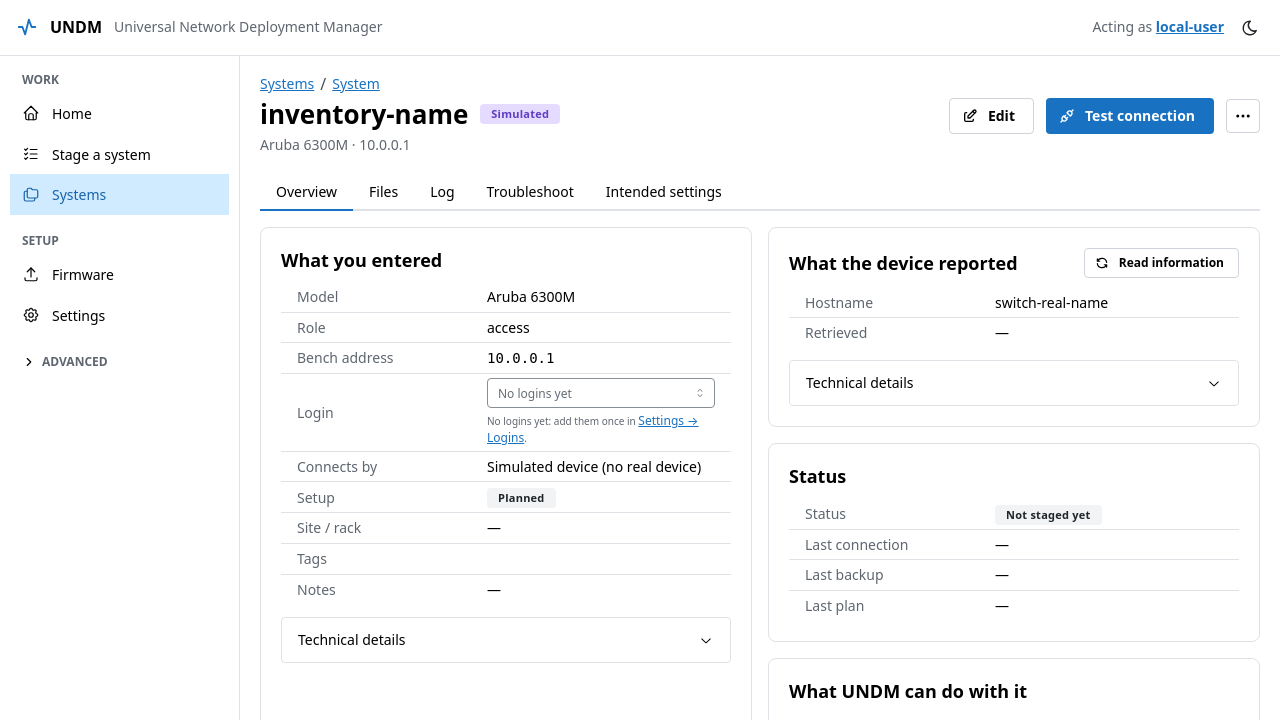
Scenario: intent editor hostname safety › defaults to the observed hostname and warns before renaming
Click the tab "Intended settings" at (664, 193), box x1=590 y1=175 x2=738 y2=211
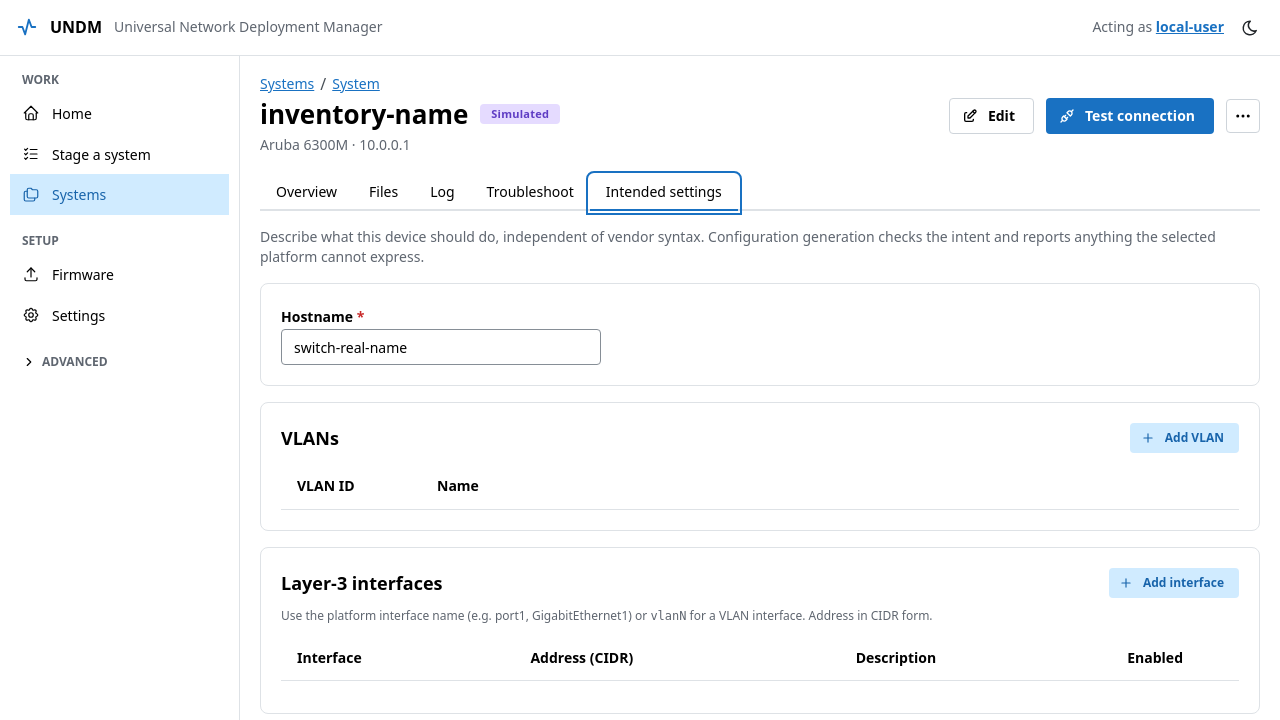
Check: the text "This renames the device" is not shown
Check: the field labelled "Hostname *" holds "switch-real-name"
Replace the text in the field labelled "Hostname *" with "other" at (441, 347), box x1=281 y1=329 x2=601 y2=365
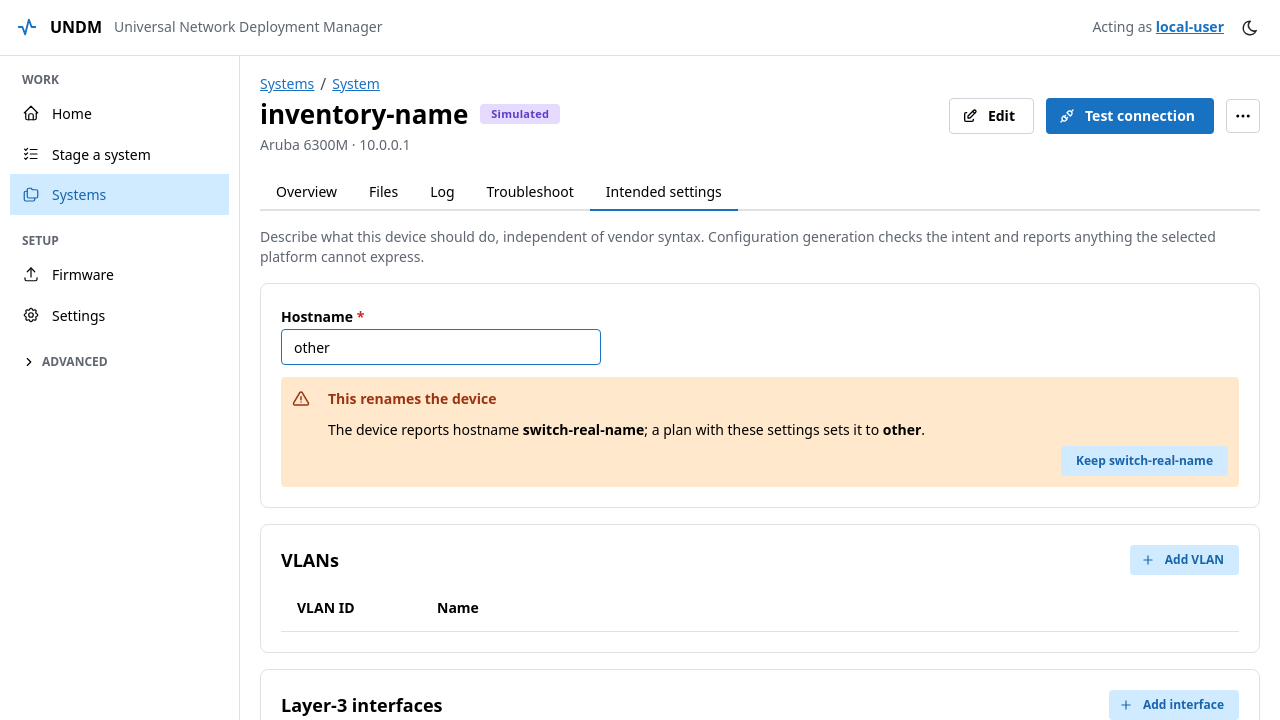
Check: the text "This renames the device" is shown, box x1=328 y1=388 x2=496 y2=410
